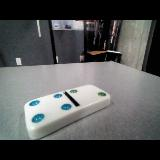domino: (25, 85, 110, 139)
